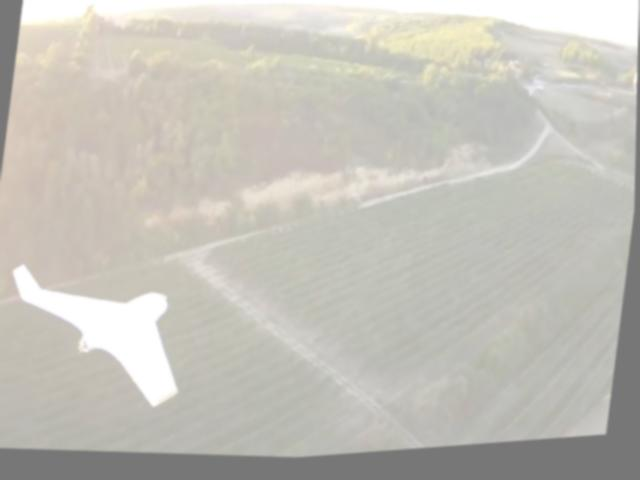iha: (0, 250, 202, 423)
